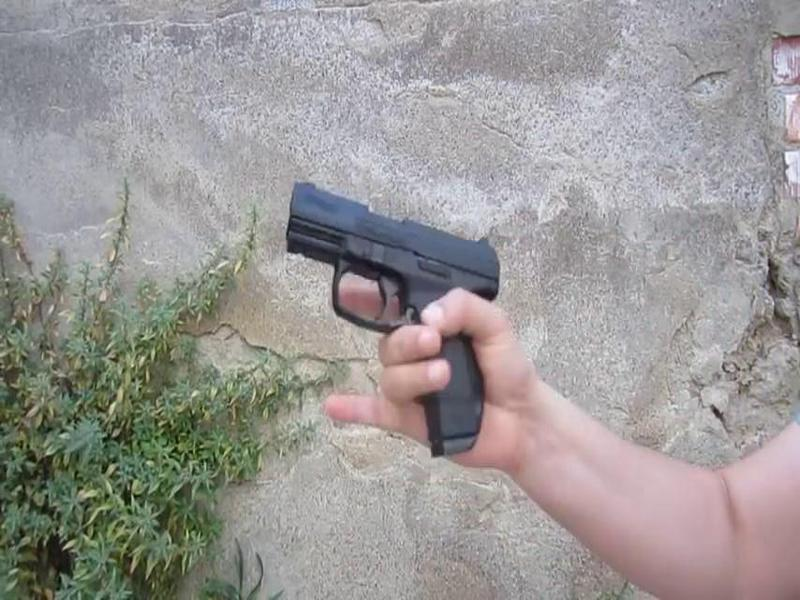Pistola: (248, 147, 539, 505)
